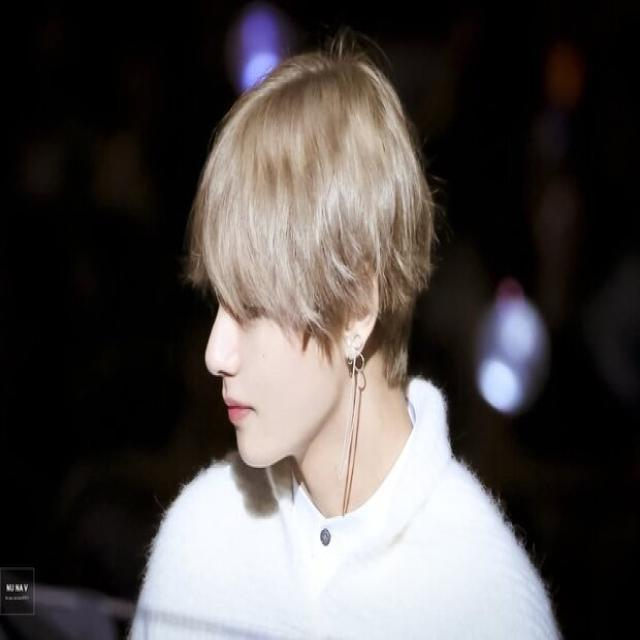Nonhelmet: (183, 34, 439, 483)
